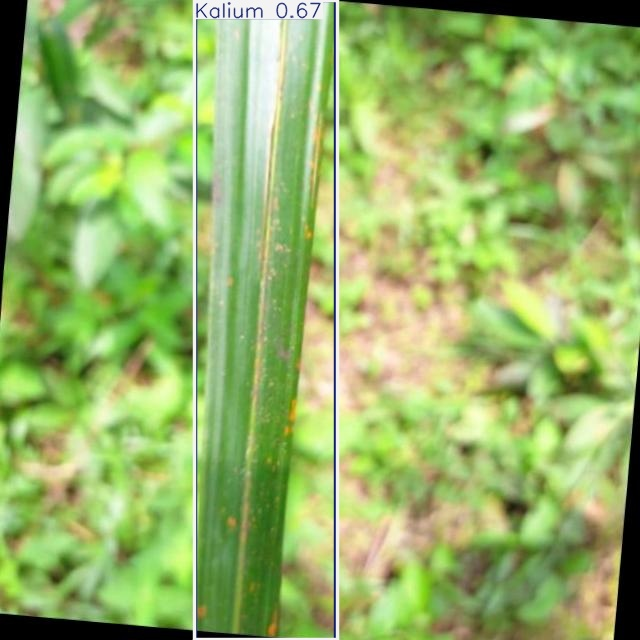Kalium: (195, 0, 338, 640)
nitrogen: (196, 0, 336, 640)
